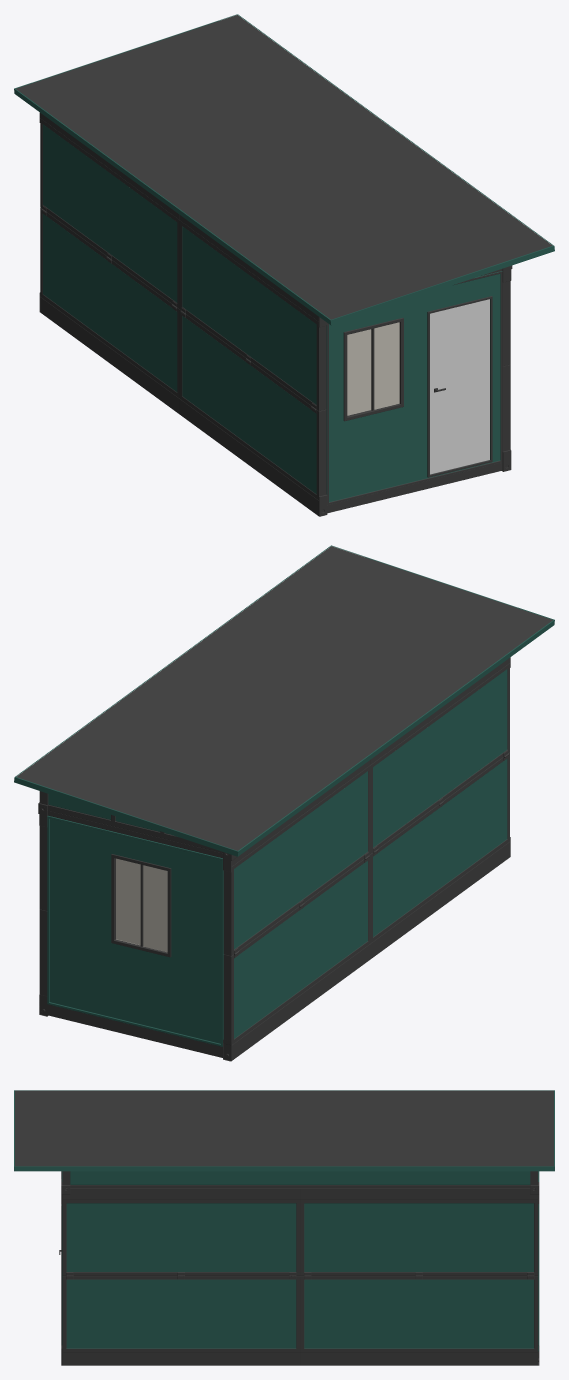
The model's file is basebox152.glb.
3 renders of one model, top to bottom at view 1: azimuth 30°, elevation 25°; view 2: azimuth 150°, elevation 25°; view 3: azimuth 270°, elevation 25°, orthographic. The views are drawn at different scales.
Visible parts, largest first — view 1: Plane, Plane.027, Plane.026, Plane.031, Plane.030; view 2: Plane, Plane.027, Plane.028, Plane.029, Plane.031, Plane.005, Plane.030; view 3: Plane.030, Plane, Plane.005, Plane.027, Plane.031.
Boxes of the visible parts, bbox=[...] form: Plane: bbox=[14, 14, 554, 325]; Plane.027: bbox=[39, 118, 511, 516]; Plane.026: bbox=[326, 271, 502, 504]; Plane.031: bbox=[39, 112, 512, 327]; Plane.030: bbox=[502, 281, 510, 451]; Plane: bbox=[14, 545, 554, 856]; Plane.027: bbox=[39, 663, 510, 1061]; Plane.028: bbox=[47, 815, 223, 1046]; Plane.029: bbox=[111, 854, 171, 957]; Plane.031: bbox=[38, 657, 510, 872]; Plane.005: bbox=[39, 791, 227, 854]; Plane.030: bbox=[39, 826, 47, 995]; Plane.030: bbox=[62, 1199, 538, 1352]; Plane: bbox=[14, 1090, 554, 1171]; Plane.005: bbox=[62, 1171, 538, 1188]; Plane.027: bbox=[61, 1345, 539, 1365]; Plane.031: bbox=[61, 1171, 539, 1203].
Size of the model in its own units: 2.84 by 2.91 by 6.94.
